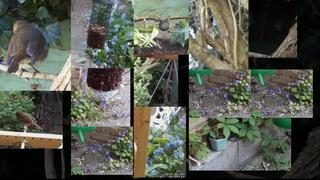robin: (6, 20, 51, 79), (14, 111, 43, 130)
sparrow: (156, 20, 169, 33)
